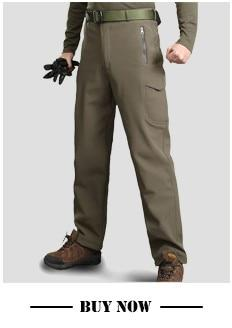pants: (70, 19, 185, 265)
